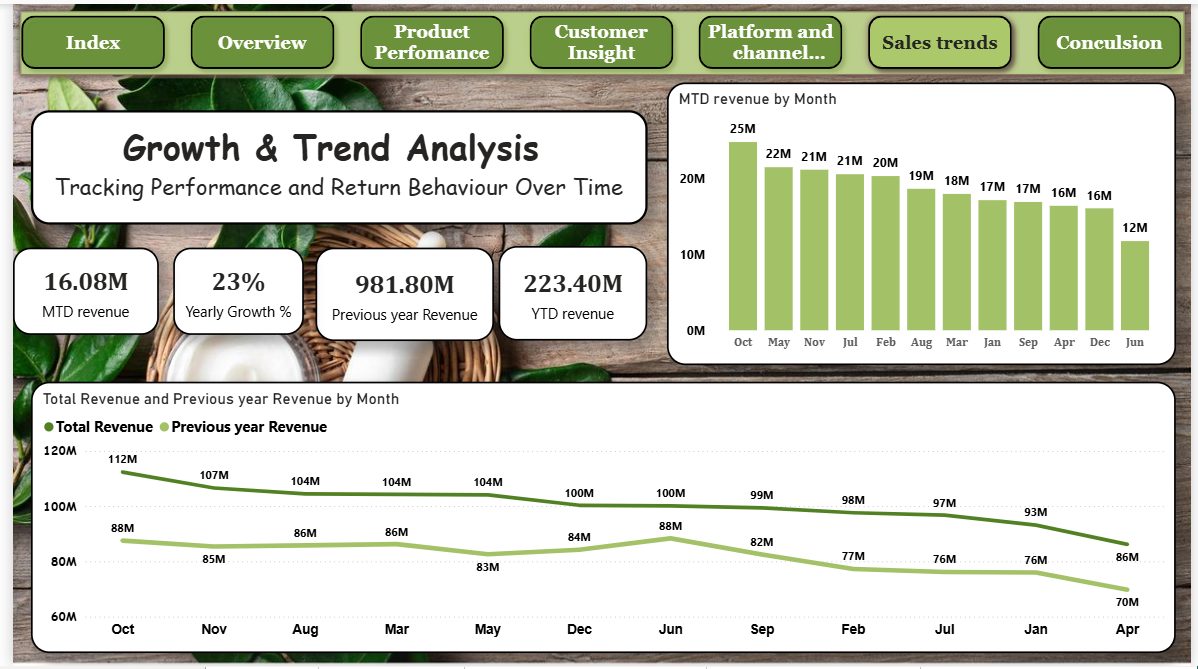

This screenshot's page, from the dashboard's own definition file:
{"tool":"powerbi","page":{"name":"Sales trends","canvas":[1280,720],"ordinal":5},"visuals":[{"type":"textbox","box":[19.5,115.4,669.5,124.3],"z":0},{"type":"lineChart","fields":{"Y":["skincare.Total Revenue","skincare.Previous year Revenue"],"Category":["skincare.Month"]},"box":[20,410.9,1243.6,294.5],"z":1000},{"type":"card","fields":{"Values":["skincare.Previous Month Revenue"]},"box":[328.5,264.6,194,101.2],"z":2000},{"type":"card","fields":{"Values":["skincare.Yearly Growth %"]},"box":[174.5,265.5,141.8,94.5],"z":3000},{"type":"card","fields":{"Values":["skincare.MTD revenue"]},"box":[0,265.5,158.2,94.5],"z":4000},{"type":"card","fields":{"Values":["skincare.YTD revenue"]},"box":[527.4,262.8,161.6,103],"z":5000},{"type":"columnChart","fields":{"Category":["skincare.Month"],"Y":["skincare.MTD revenue"]},"box":[710.9,85.5,552.7,307.3],"z":6000},{"type":"shape","box":[0,0,1280.4,85],"z":7000},{"type":"pageNavigator","box":[0,3.6,1280.4,76.4],"z":8000}]}

Visuals, with their boxes in screenshot pixels (x1, y1, x2, y2), scaled from the page's 1280x720 canvas onto the 1198x669 screenshot:
textbox: <bbox>18, 107, 645, 223</bbox>
lineChart - skincare.Total Revenue x skincare.Previous year Revenue: <bbox>19, 382, 1183, 655</bbox>
card - skincare.Previous Month Revenue: <bbox>307, 246, 489, 340</bbox>
card - skincare.Yearly Growth %: <bbox>163, 247, 296, 334</bbox>
card - skincare.MTD revenue: <bbox>0, 247, 148, 334</bbox>
card - skincare.YTD revenue: <bbox>494, 244, 645, 340</bbox>
columnChart - skincare.Month x skincare.MTD revenue: <bbox>665, 79, 1183, 365</bbox>
shape: <bbox>0, 0, 1197, 79</bbox>
pageNavigator: <bbox>0, 3, 1197, 74</bbox>
